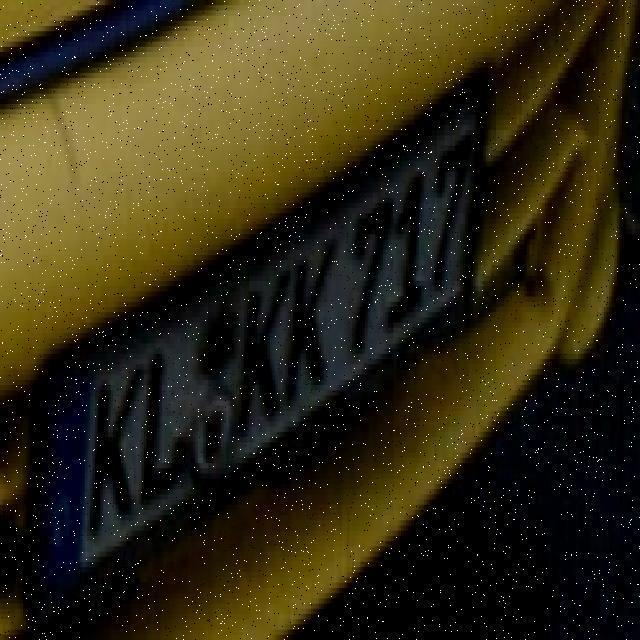LicensePlate: (26, 27, 515, 621)
